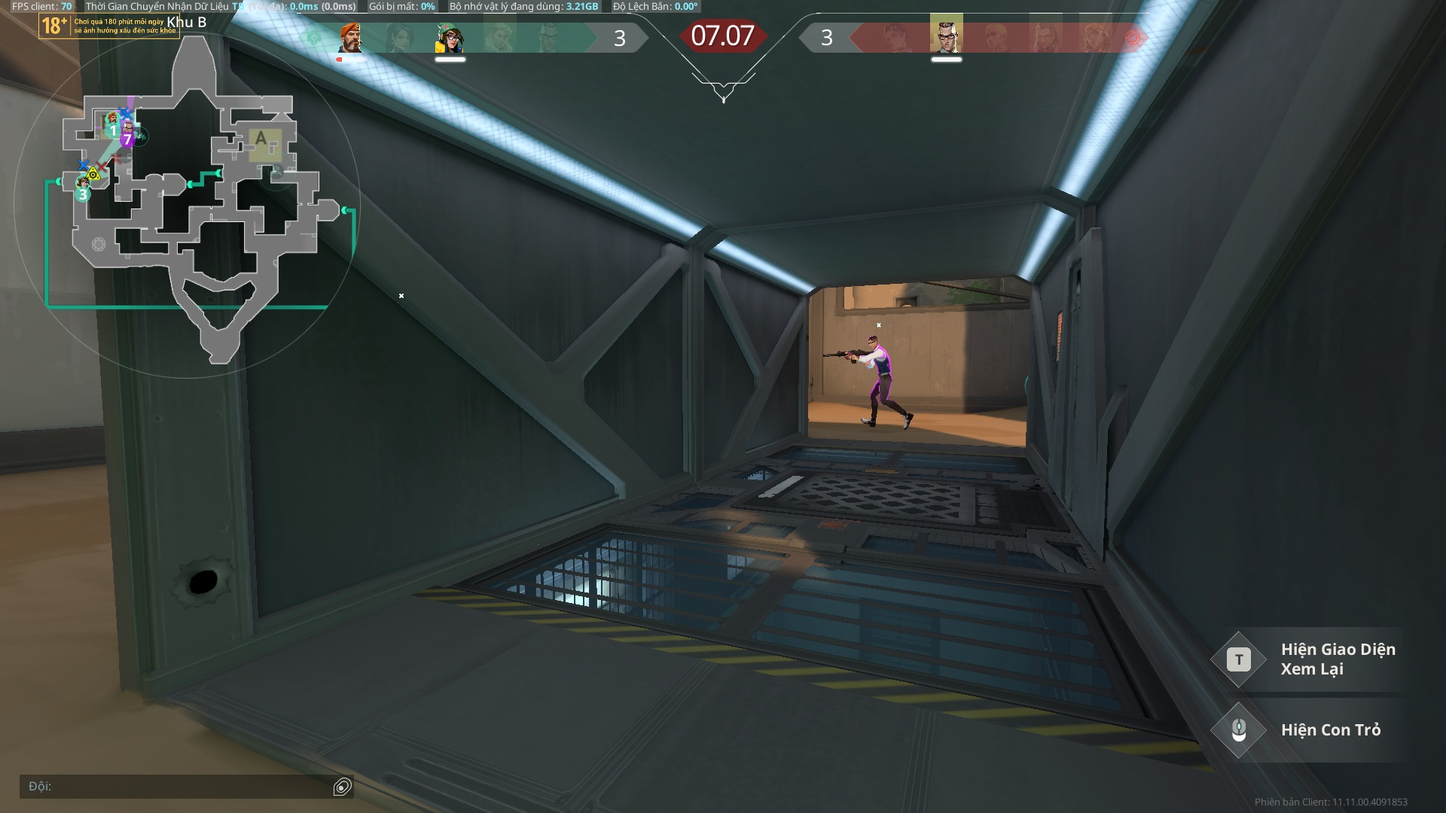body: (871, 346, 893, 377)
head: (867, 334, 883, 349)
